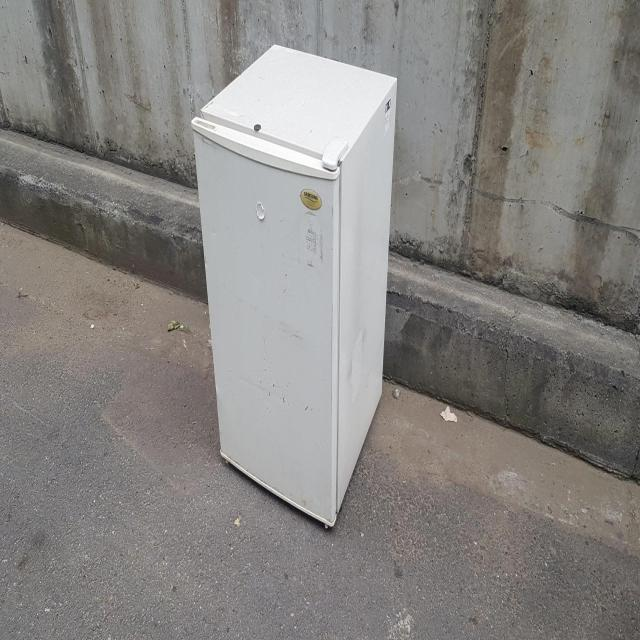refrigerator: (188, 31, 401, 534)
